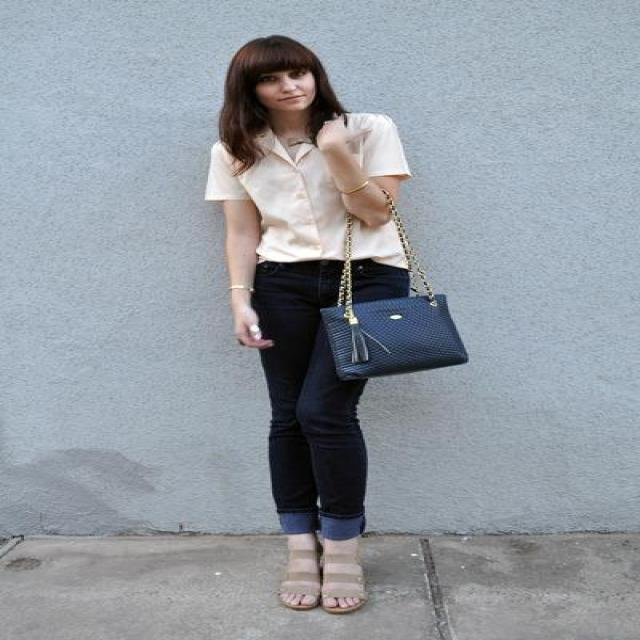bag: (315, 292, 467, 384)
pants: (250, 258, 416, 540)
shirt: (204, 113, 410, 268)
shoe: (277, 534, 374, 616)
